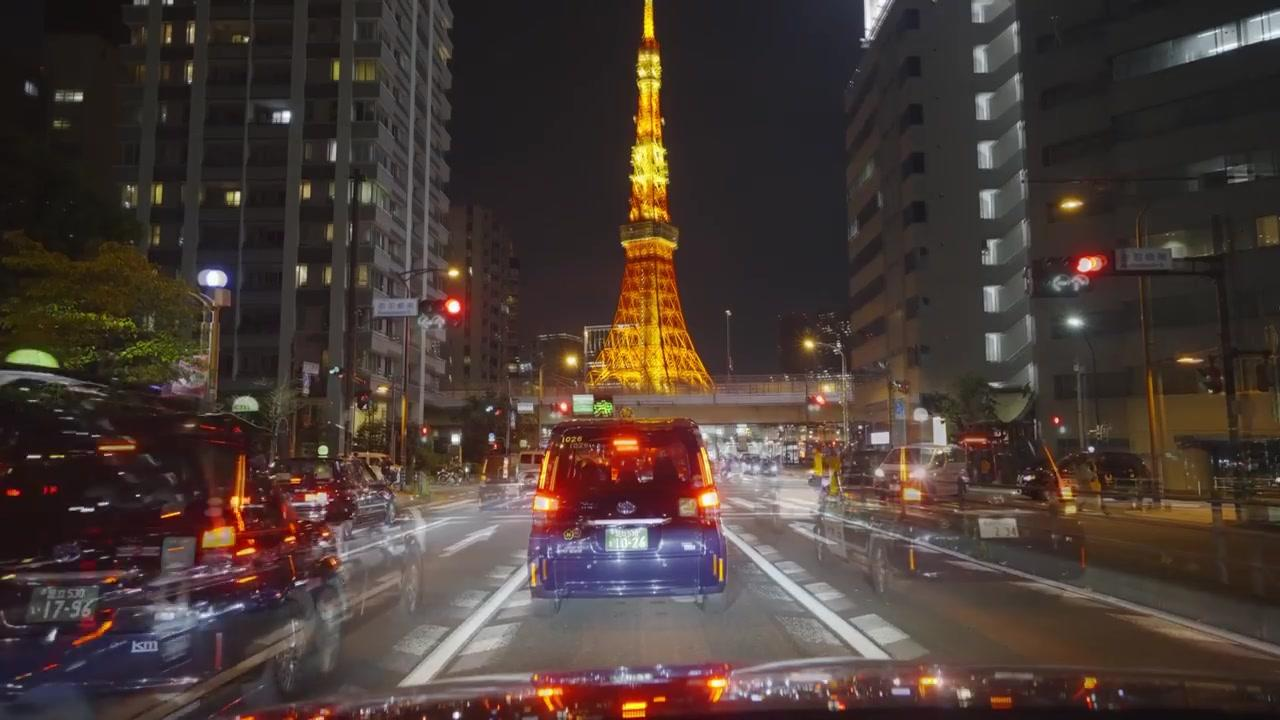car: (0, 375, 291, 647), (0, 514, 338, 715), (526, 414, 729, 612), (276, 458, 383, 530), (874, 443, 971, 503), (1060, 451, 1159, 504), (332, 457, 397, 527), (1018, 463, 1081, 514)
traffic light: (1071, 252, 1109, 280), (444, 296, 464, 329), (808, 393, 825, 413), (1050, 412, 1064, 432)
